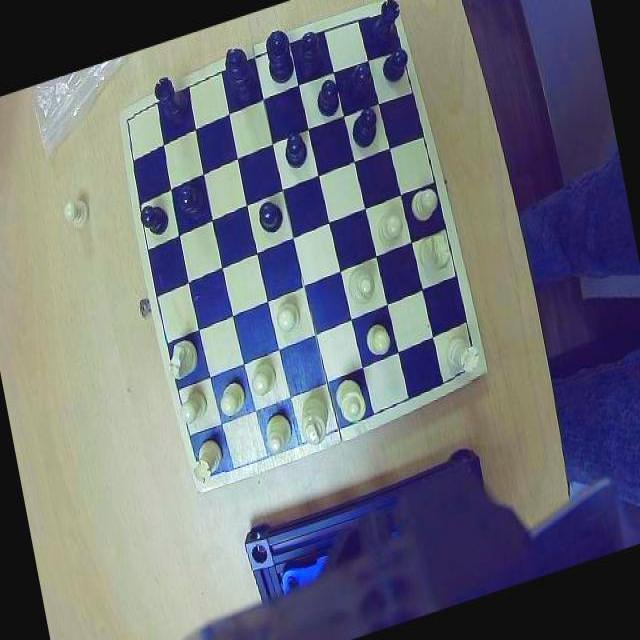chess-table-corners: (452, 349, 487, 387), (194, 459, 228, 494), (368, 1, 401, 36), (121, 105, 148, 136)
